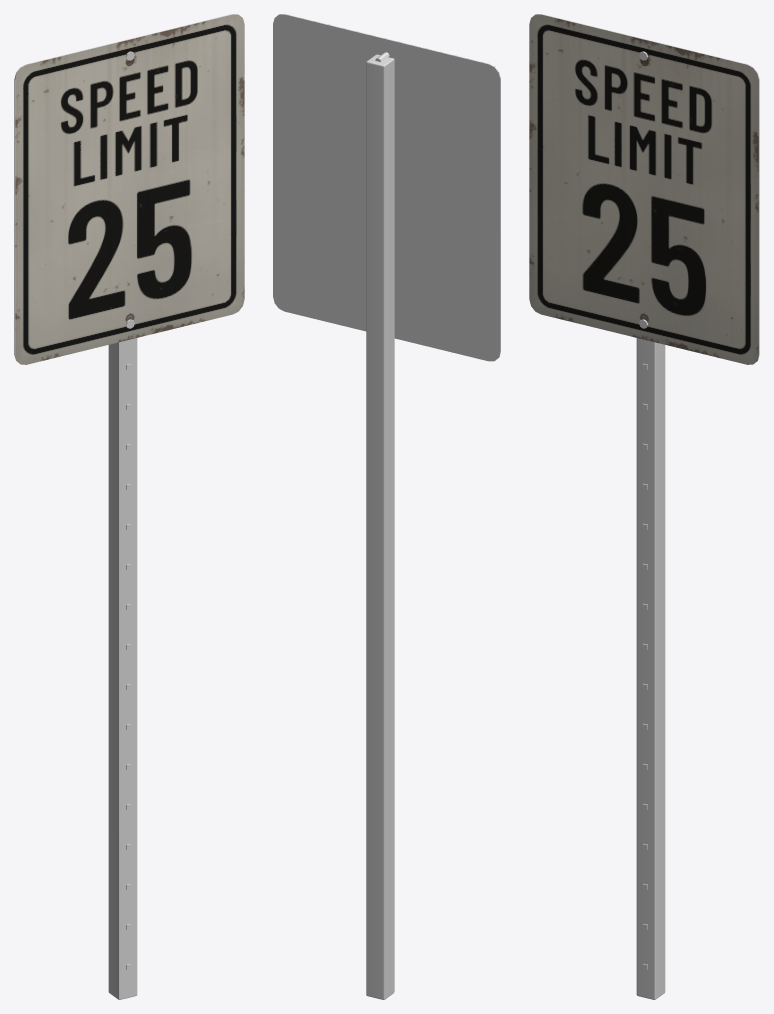
Rendered from SM_Sign_Speed.fbx.
3 views of the same model, side by side, from view 1: azimuth 30°, elevation 25°; view 2: azimuth 150°, elevation 25°; view 3: azimuth 330°, elevation 25° (orthographic).
Parts seen in each view (by area): view 1: SM_Sign_Speed_1; view 2: SM_Sign_Speed_1; view 3: SM_Sign_Speed_1.
Boxes of the visible parts, left/top/right/bottom form: SM_Sign_Speed_1: left=14, top=14, right=244, bottom=999; SM_Sign_Speed_1: left=273, top=14, right=500, bottom=999; SM_Sign_Speed_1: left=529, top=14, right=759, bottom=999.
Size of the model in its own units: 60 by 240 by 6.1.
